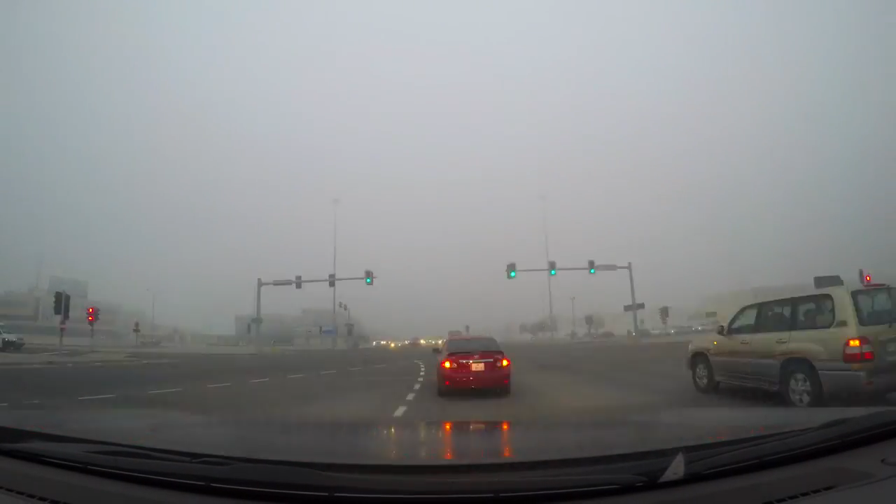car: (686, 280, 896, 410), (430, 334, 513, 398)
